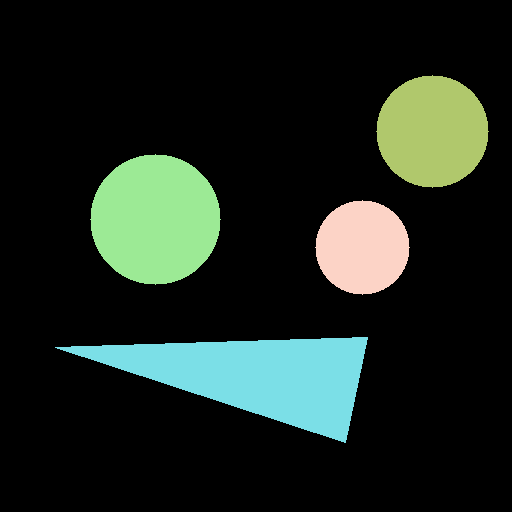circle: (90, 154, 220, 284), (376, 75, 488, 187), (315, 200, 409, 294)
triangle: (55, 337, 367, 442)
